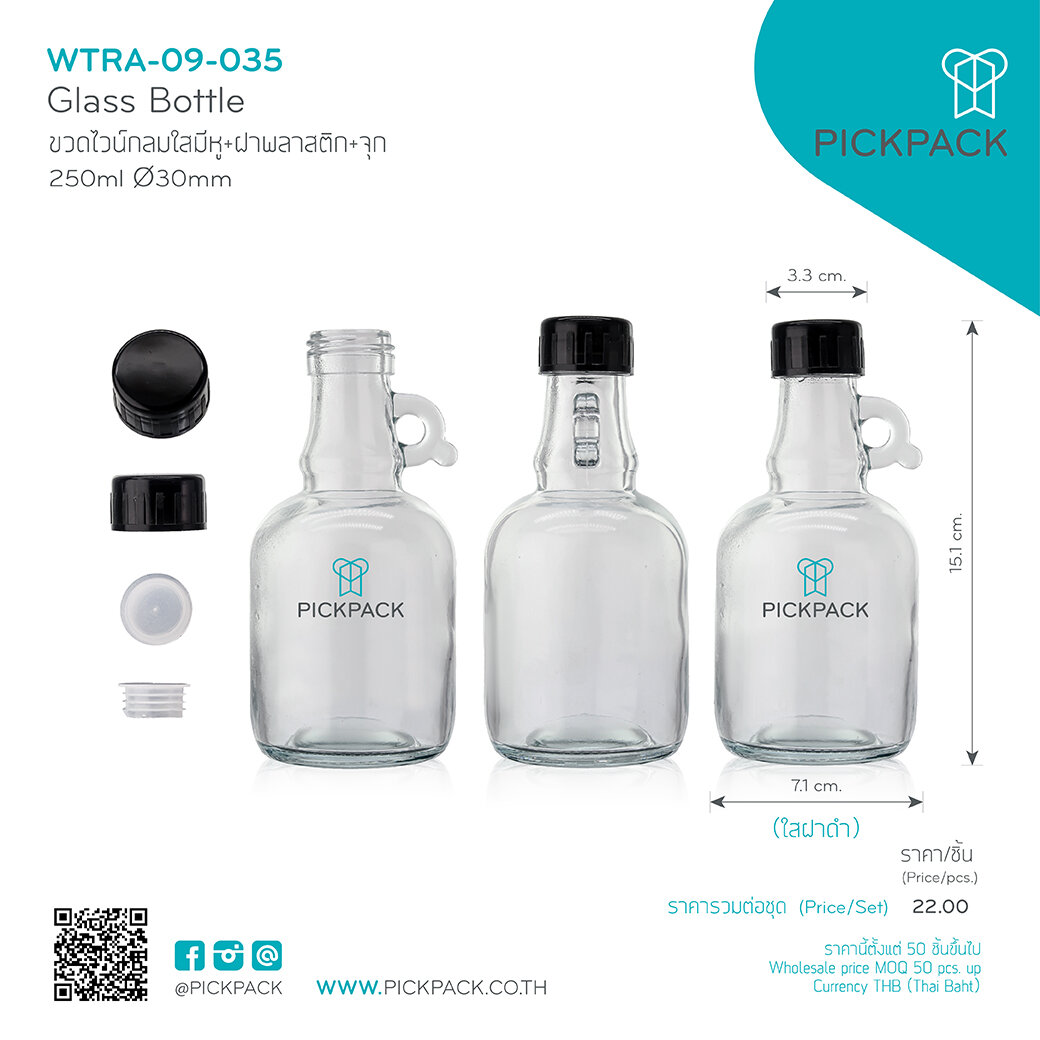glass_bottle: (243, 316, 465, 772), (483, 310, 697, 773), (716, 316, 925, 771)
